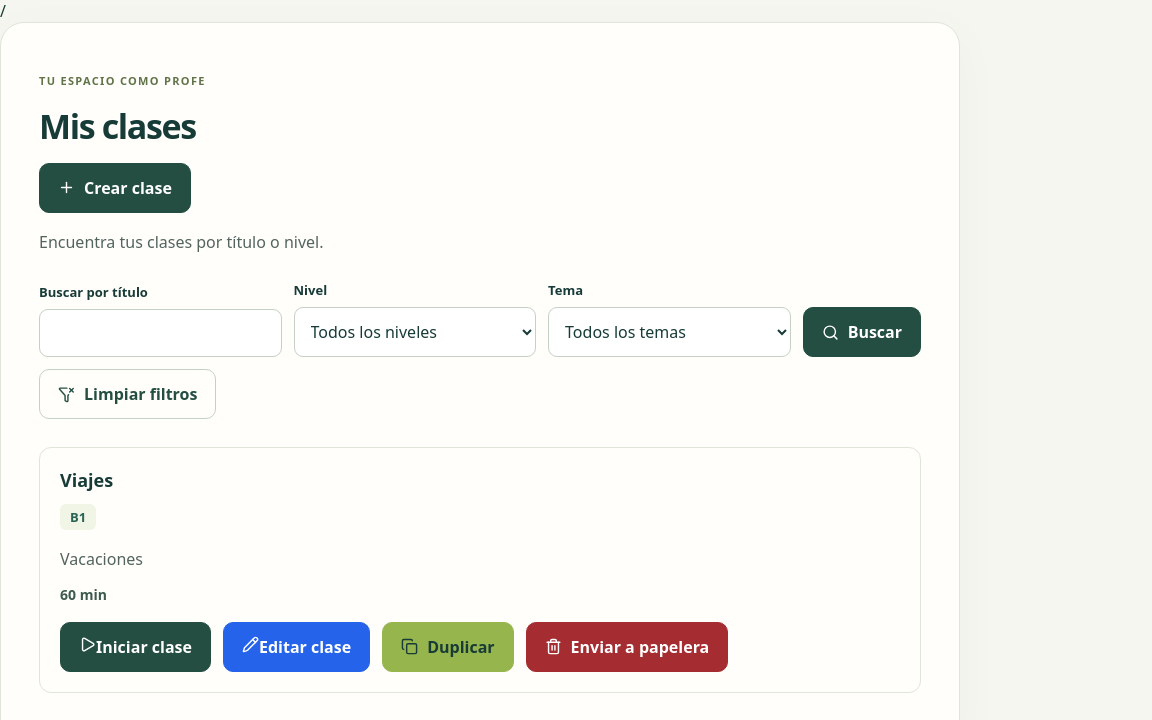
Test case: does not retry uncertain duplication or navigate away on failure
This screenshot has width=1152, height=720.
Click the button with aria-label "Duplicar Viajes" at (448, 647), box [382,622,514,672]
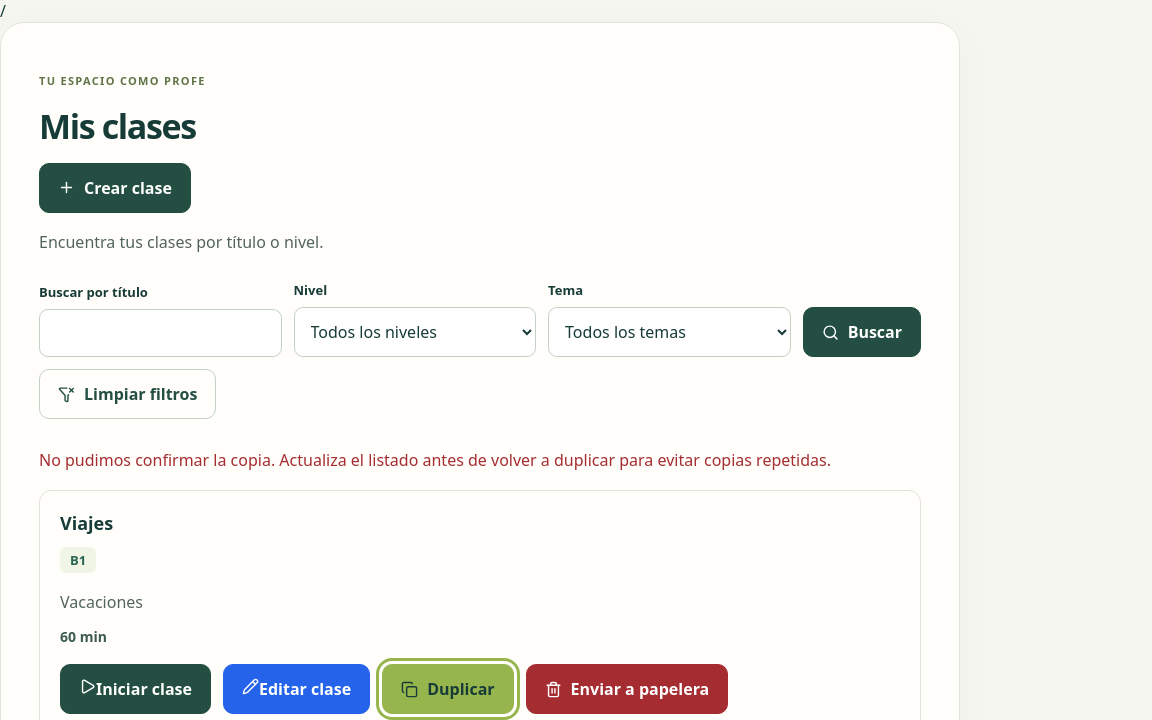
Expected: the text with test id "location" reads "/", [0,0,6,22]
Expected: the message shows "Actualiza el listado", [39,449,831,471]
